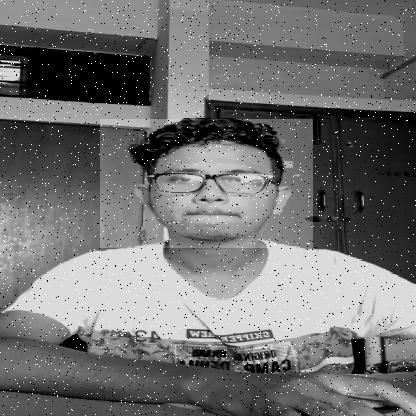Normal: (100, 119, 313, 248)
